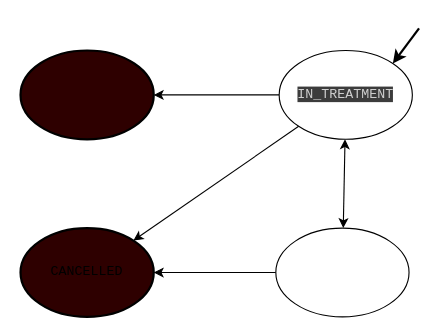
This 447x336 diagram has some shape labels left out. Each missing label, with the box of its shape:
PAUSED: (275, 227, 409, 317)
TERMINATED: (19, 49, 154, 140)
